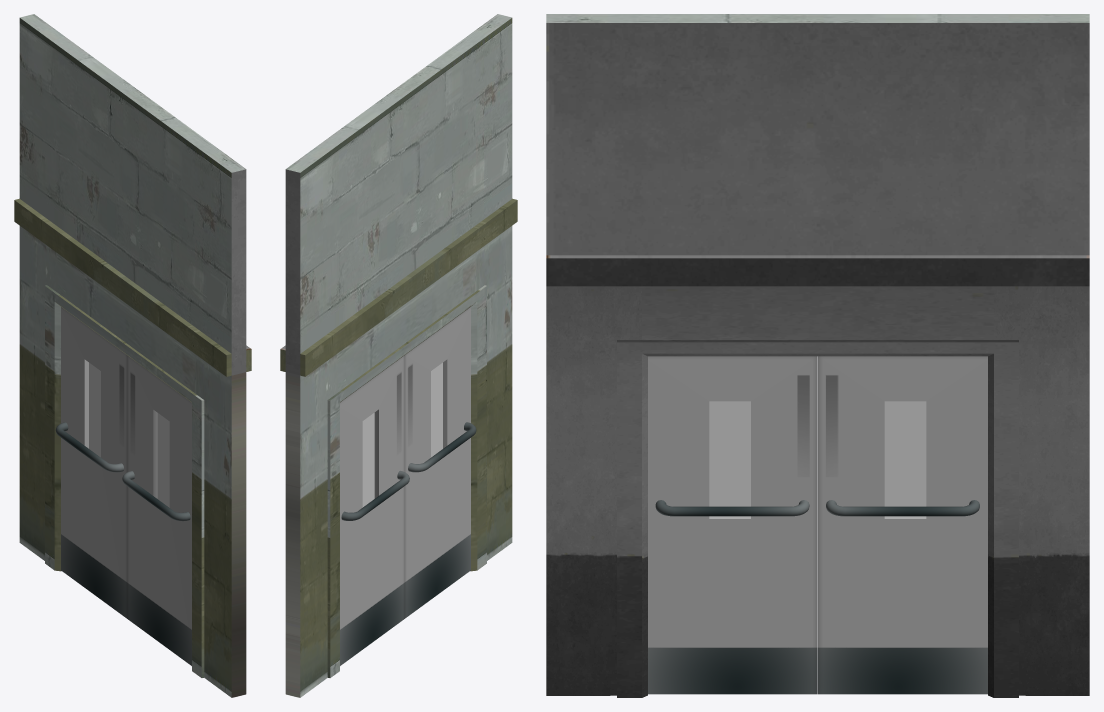
The model's file is Hallway_Door.fbx.
3 renders of one model, left to right at view 1: azimuth 30°, elevation 25°; view 2: azimuth 150°, elevation 25°; view 3: azimuth 270°, elevation 25°, orthographic. The views are drawn at different scales.
Parts seen in each view (by area): view 1: ExitDoor, Door_1.004, Door_1.002; view 2: ExitDoor, Door_1.002, Door_1.004; view 3: ExitDoor, Door_1.004, Door_1.002.
Part boxes in pixels (x1,y1,x2,y2): ExitDoor: (14, 14, 251, 697); Door_1.004: (55, 307, 127, 618); Door_1.002: (122, 355, 191, 665); ExitDoor: (280, 14, 517, 697); Door_1.002: (404, 307, 476, 618); Door_1.004: (340, 355, 409, 665); ExitDoor: (546, 14, 1089, 697); Door_1.004: (818, 356, 987, 694); Door_1.002: (648, 356, 817, 694).
Bounding box in the file's own units: 0.648 × 8.13 × 5.96.
